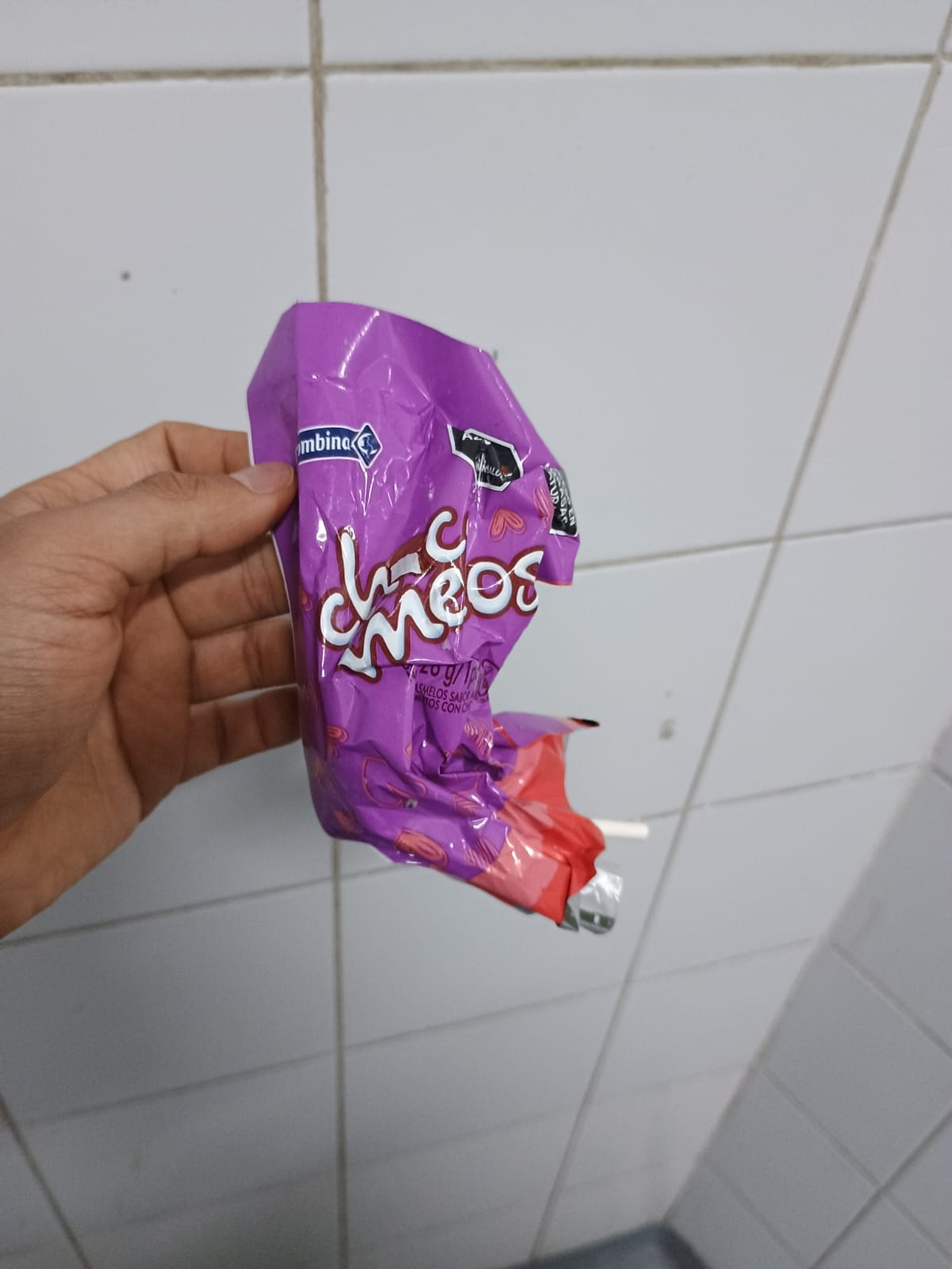Ordinario: (246, 303, 646, 936)
